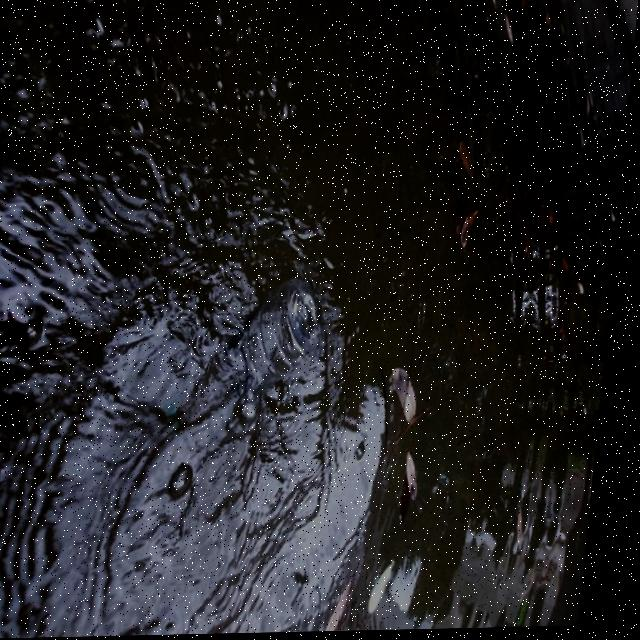leaf: (363, 348, 444, 442), (360, 446, 434, 533), (438, 188, 490, 256), (0, 280, 35, 360)
waterbottle: (223, 272, 350, 427)
